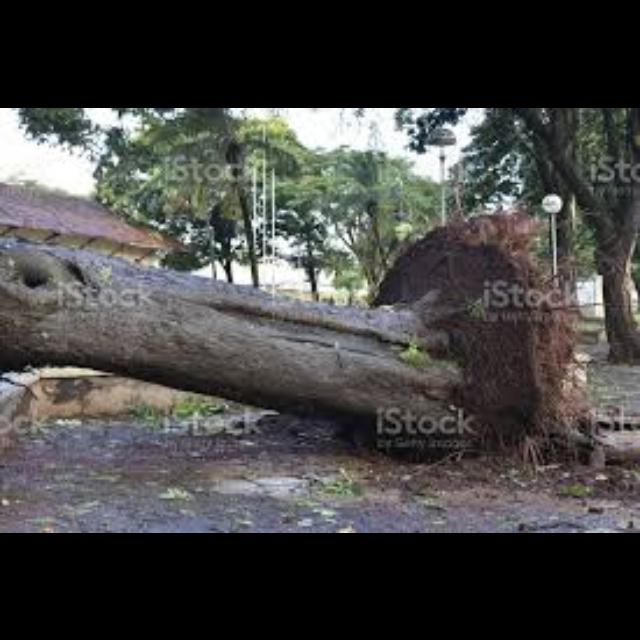Fallen Tree: (2, 215, 578, 447)
